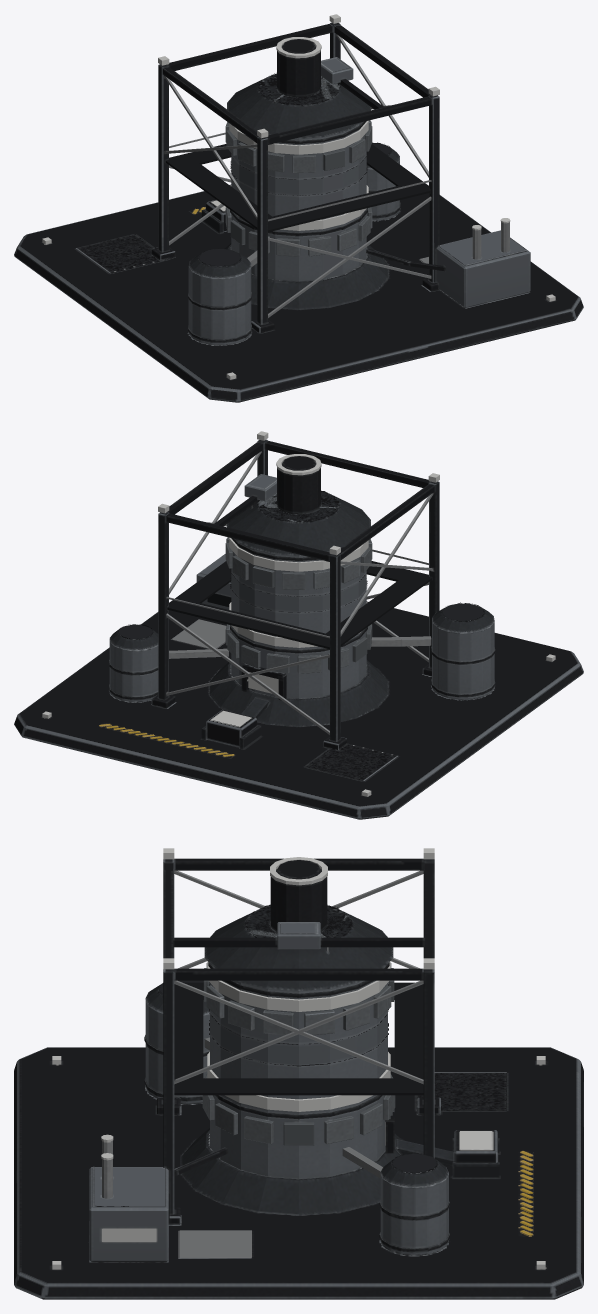
The model's file is chs_fusion.fbx.
The picture shows the model from 3 angles, top to bottom: view 1: azimuth 30°, elevation 25°; view 2: azimuth 150°, elevation 25°; view 3: azimuth 270°, elevation 25°; orthographic projection. The views are drawn at different scales.
Parts seen in each view (by area): view 1: base_bar, core_glow_power_bar, base_glow_power_bar, base_glow_running_bar; view 2: base_bar, core_glow_power_bar, base_glow_power_bar, base_glow_running_bar, core_bar; view 3: base_bar, core_glow_power_bar, base_glow_power_bar, base_glow_running_bar.
Boxes of the visible parts, bbox=[...] form: base_bar: bbox=[14, 22, 583, 402]; core_glow_power_bar: bbox=[229, 120, 368, 230]; base_glow_power_bar: bbox=[211, 37, 513, 256]; base_glow_running_bar: bbox=[42, 14, 555, 379]; base_bar: bbox=[14, 439, 583, 819]; core_glow_power_bar: bbox=[229, 537, 368, 693]; base_glow_power_bar: bbox=[211, 454, 321, 726]; base_glow_running_bar: bbox=[42, 431, 555, 796]; core_bar: bbox=[241, 663, 286, 700]; base_bar: bbox=[14, 858, 583, 1299]; core_glow_power_bar: bbox=[207, 961, 390, 1145]; base_glow_power_bar: bbox=[101, 857, 492, 1241]; base_glow_running_bar: bbox=[52, 848, 545, 1269].
Size of the model in its own units: 3153 by 2098 by 3153.
2 materials, 2 textured.
